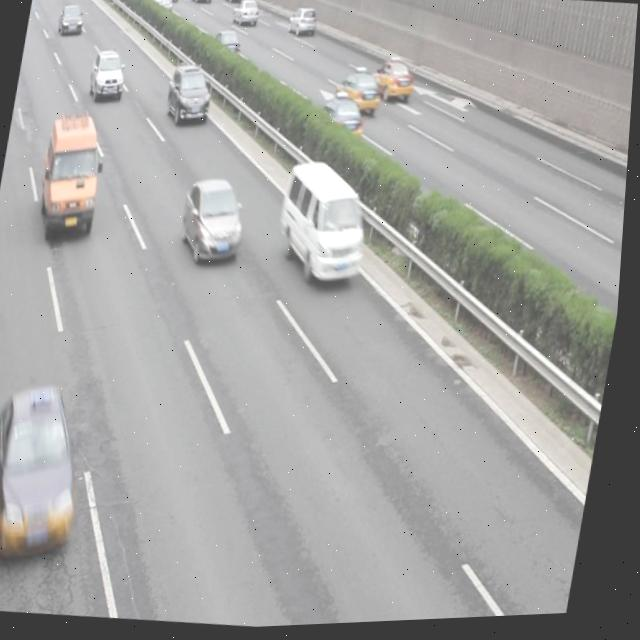car: (0, 384, 98, 566), (179, 177, 252, 269), (165, 66, 217, 128), (333, 66, 385, 120), (316, 95, 369, 141), (368, 59, 418, 105), (89, 47, 130, 101), (286, 9, 317, 40), (210, 32, 243, 60), (231, 0, 260, 31), (58, 7, 85, 37), (150, 0, 175, 14), (190, 0, 214, 6), (223, 0, 246, 5)
truck: (272, 159, 379, 291), (36, 108, 112, 239)
